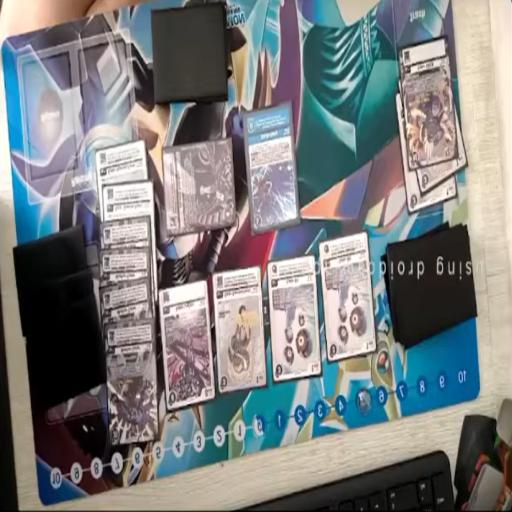card: (243, 99, 301, 240), (400, 26, 452, 172), (319, 232, 376, 362), (163, 142, 238, 240), (159, 281, 214, 411), (104, 318, 158, 448), (213, 266, 267, 394), (268, 255, 321, 382), (95, 137, 151, 191), (404, 158, 456, 214), (418, 140, 466, 199), (100, 277, 152, 325), (102, 180, 155, 223), (100, 244, 150, 288), (100, 218, 151, 249)
